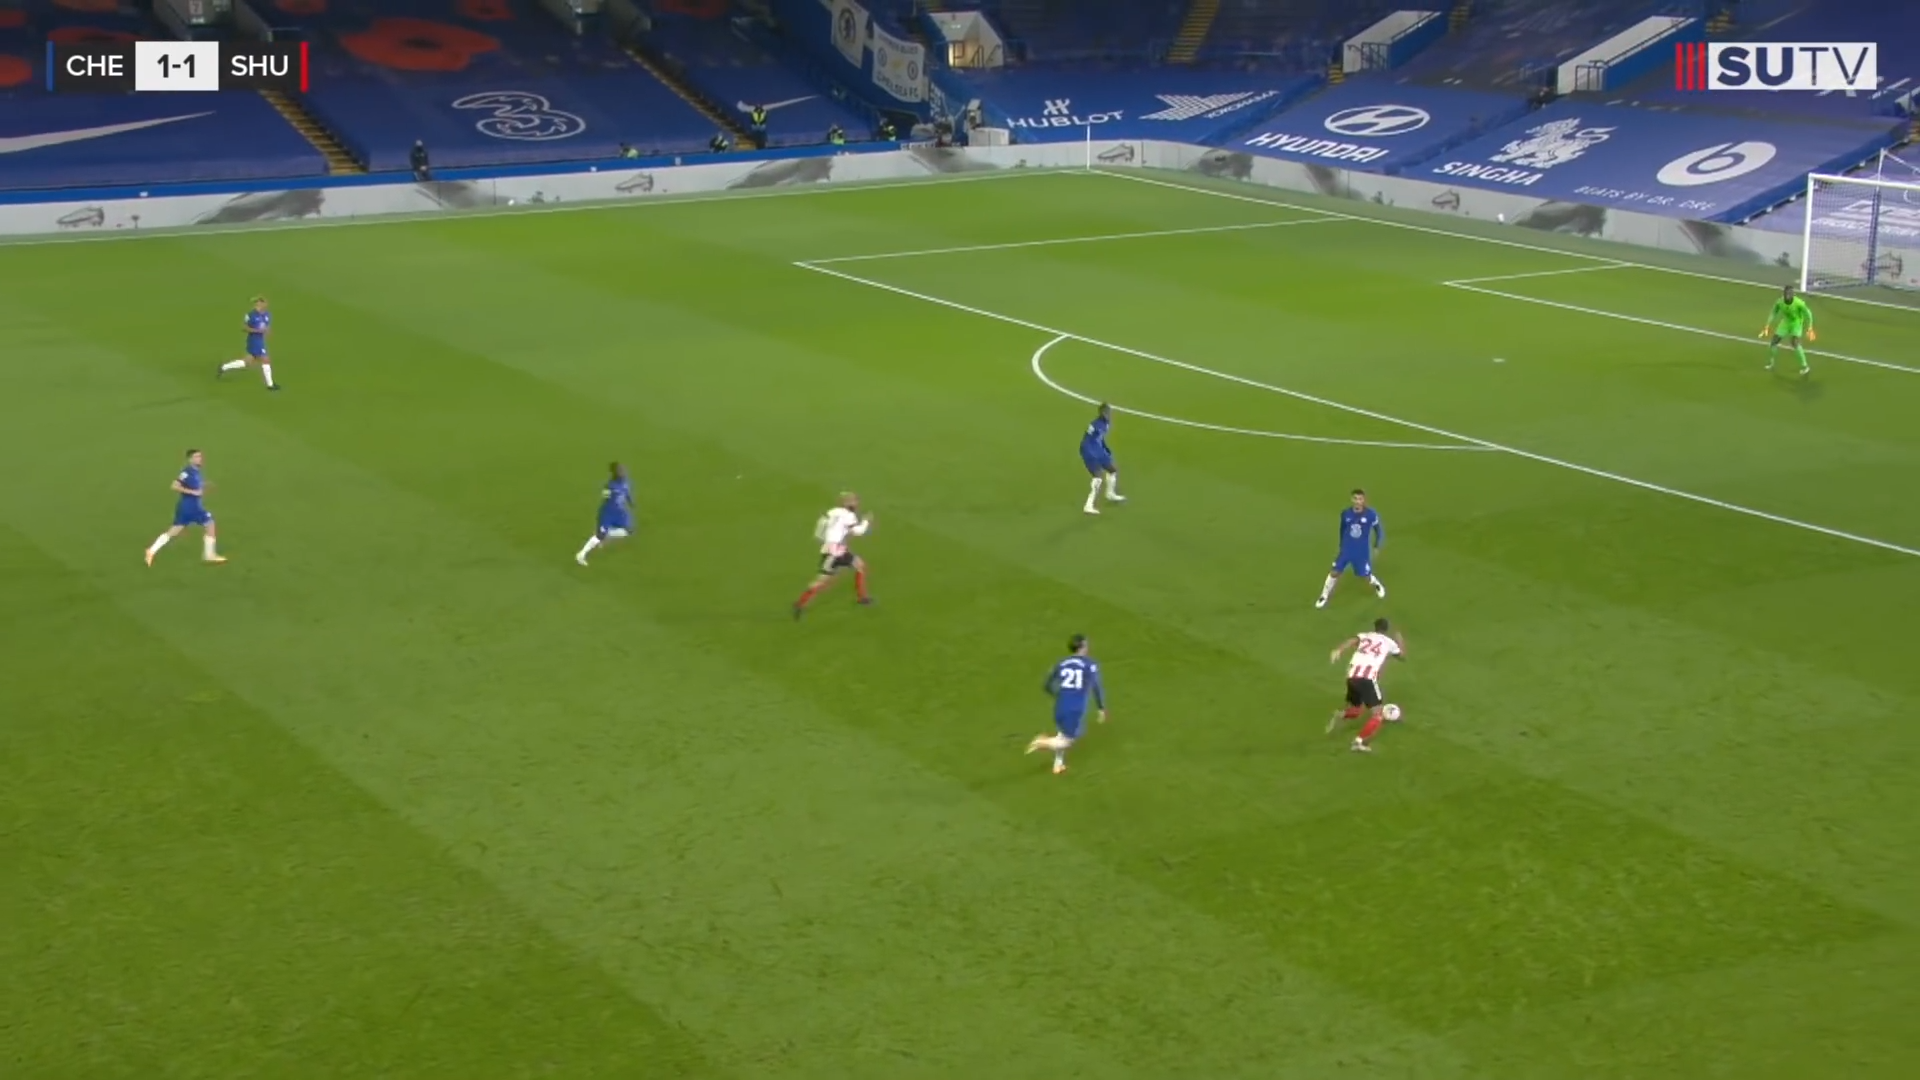Player: (1023, 626, 1113, 780), (141, 438, 232, 590), (1321, 608, 1409, 759)
